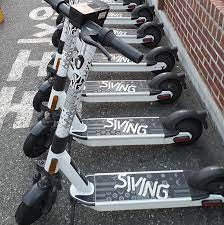kick_body: (88, 170, 193, 208), (85, 117, 166, 145), (88, 80, 151, 102), (95, 53, 147, 70)
kick_wheel: (15, 184, 51, 224), (170, 111, 202, 145), (199, 165, 224, 206), (24, 118, 50, 156), (155, 71, 181, 102), (151, 45, 174, 71), (140, 22, 161, 47), (136, 5, 152, 25)
